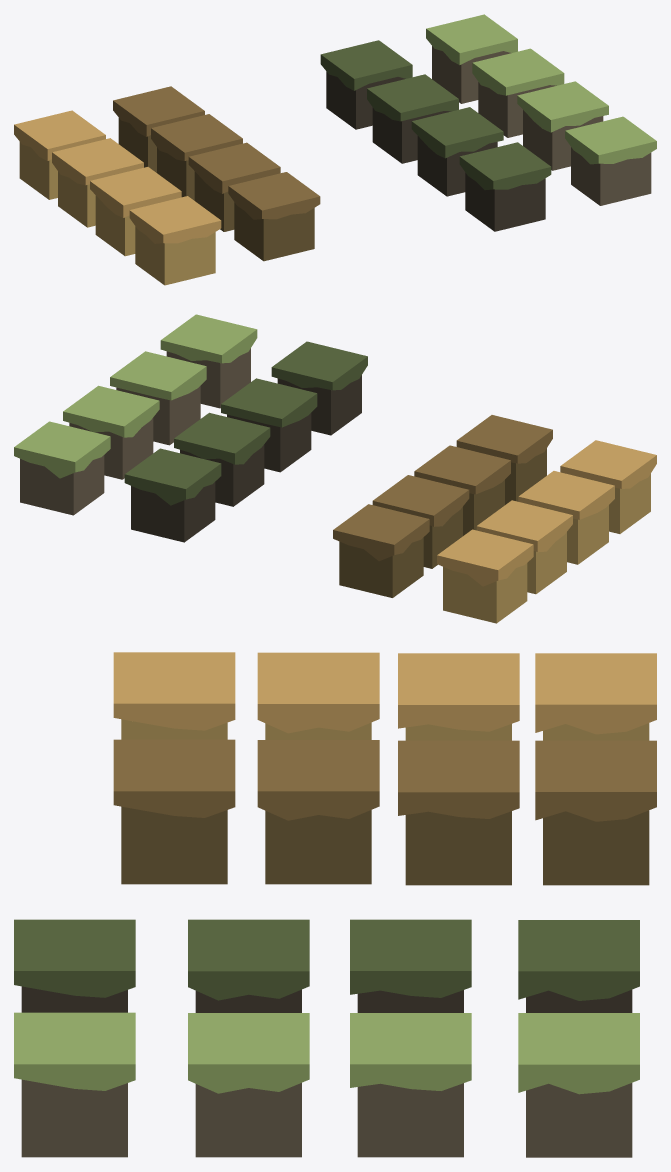
The model's file is Grid_Grass_Dark_3.fbx.
3 renders of one model, top to bottom at view 1: azimuth 30°, elevation 25°; view 2: azimuth 150°, elevation 25°; view 3: azimuth 270°, elevation 25°, orthographic. The views are drawn at different scales.
Parts seen in each view (by area): view 1: Grid_Grass_Dark_4, Grid_Desert_Dark_4, Cube.006, Grid_Grass_1, Grid_Grass_Dark_3, Grid_Grass_Dark_1, Grid_Grass_2, Grid_Grass_Dark_2, Grid_Grass_4, Grid_Grass_3, Cube, Cube.007 (+4 smaller); view 2: Grid_Grass_Dark_1, Grid_Desert_Dark_1, Cube.005, Grid_Grass_4, Grid_Grass_Dark_4, Grid_Grass_Dark_2, Grid_Grass_1, Grid_Grass_Dark_3, Grid_Grass_3, Grid_Grass_2, Cube.006, Cube (+4 smaller); view 3: Grid_Desert_Dark_1, Grid_Desert_Dark_4, Grid_Desert_Dark_2, Grid_Grass_1, Grid_Grass_4, Grid_Desert_Dark_3, Grid_Grass_3, Grid_Grass_2, Grid_Grass_Dark_2, Grid_Grass_Dark_3, Grid_Grass_Dark_4, Grid_Grass_Dark_1 (+4 smaller).
Part boxes in pixels (x1=…): Grid_Grass_Dark_4: x1=459, y1=142, x2=551, y2=231; Grid_Desert_Dark_4: x1=228, y1=172, x2=320, y2=261; Cube.006: x1=129, y1=196, x2=221, y2=285; Grid_Grass_1: x1=565, y1=116, x2=656, y2=205; Grid_Grass_Dark_3: x1=411, y1=107, x2=503, y2=196; Grid_Grass_Dark_1: x1=320, y1=40, x2=412, y2=129; Grid_Grass_2: x1=517, y1=81, x2=608, y2=170; Grid_Grass_Dark_2: x1=367, y1=74, x2=458, y2=163; Grid_Grass_4: x1=426, y1=14, x2=517, y2=103; Grid_Grass_3: x1=472, y1=48, x2=564, y2=137; Cube: x1=90, y1=167, x2=181, y2=256; Cube.007: x1=52, y1=138, x2=143, y2=227; Grid_Grass_Dark_1: x1=124, y1=448, x2=221, y2=542; Grid_Desert_Dark_1: x1=333, y1=504, x2=429, y2=597; Cube.005: x1=437, y1=529, x2=533, y2=623; Grid_Grass_4: x1=14, y1=421, x2=110, y2=515; Grid_Grass_Dark_4: x1=271, y1=341, x2=367, y2=435; Grid_Grass_Dark_2: x1=174, y1=412, x2=270, y2=506; Grid_Grass_1: x1=160, y1=314, x2=257, y2=408; Grid_Grass_Dark_3: x1=221, y1=378, x2=317, y2=472; Grid_Grass_3: x1=63, y1=385, x2=159, y2=479; Grid_Grass_2: x1=110, y1=351, x2=206, y2=445; Cube.006: x1=560, y1=440, x2=656, y2=533; Cube: x1=518, y1=471, x2=614, y2=564; Grid_Desert_Dark_1: x1=535, y1=740, x2=656, y2=885; Grid_Desert_Dark_4: x1=113, y1=739, x2=235, y2=884; Grid_Desert_Dark_2: x1=398, y1=740, x2=519, y2=885; Grid_Grass_1: x1=14, y1=1012, x2=135, y2=1157; Grid_Grass_4: x1=518, y1=1013, x2=639, y2=1157; Grid_Desert_Dark_3: x1=257, y1=740, x2=379, y2=884; Grid_Grass_3: x1=350, y1=1013, x2=471, y2=1157; Grid_Grass_2: x1=188, y1=1013, x2=309, y2=1157; Grid_Grass_Dark_2: x1=350, y1=919, x2=471, y2=1012; Grid_Grass_Dark_3: x1=188, y1=919, x2=309, y2=1012; Grid_Grass_Dark_4: x1=14, y1=919, x2=135, y2=1012; Grid_Grass_Dark_1: x1=518, y1=920, x2=639, y2=1012.
Size of the model in its own units: 917 by 100 by 605.
